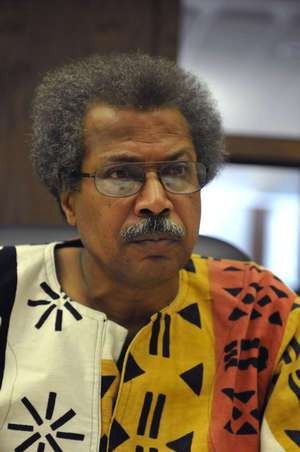person: (27, 48, 227, 291)
